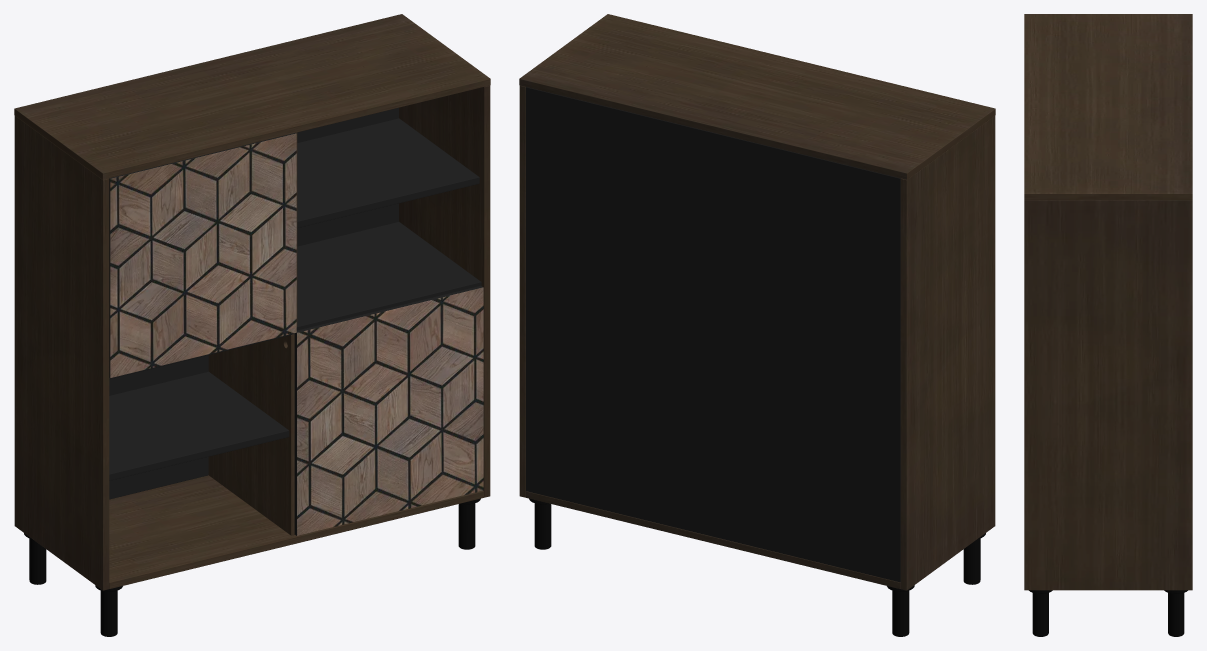
Rendered from abo-B07RMJSGS7.glb.
3 views of the same model, side by side, from view 1: azimuth 30°, elevation 25°; view 2: azimuth 150°, elevation 25°; view 3: azimuth 270°, elevation 25° (orthographic). The views are drawn at different scales.
Bounding box in the file's own units: 1.01 × 1.17 × 0.4.
Materials: 1 (1 with a texture image).
